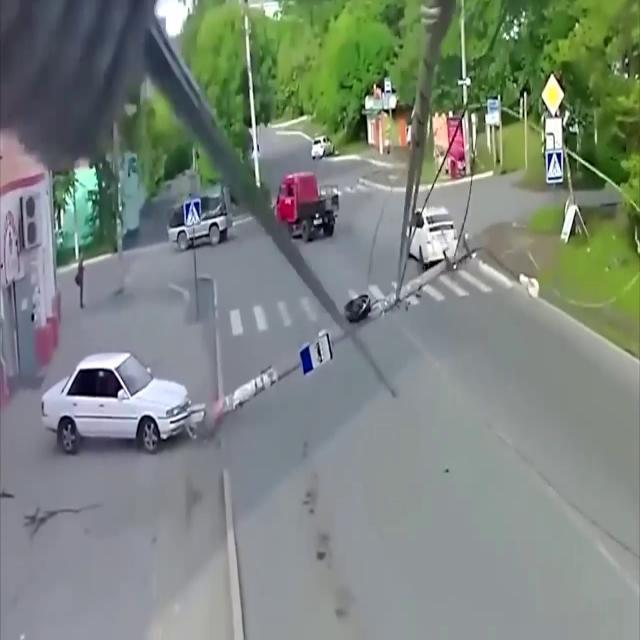accident: (38, 330, 332, 460), (382, 202, 486, 314)
